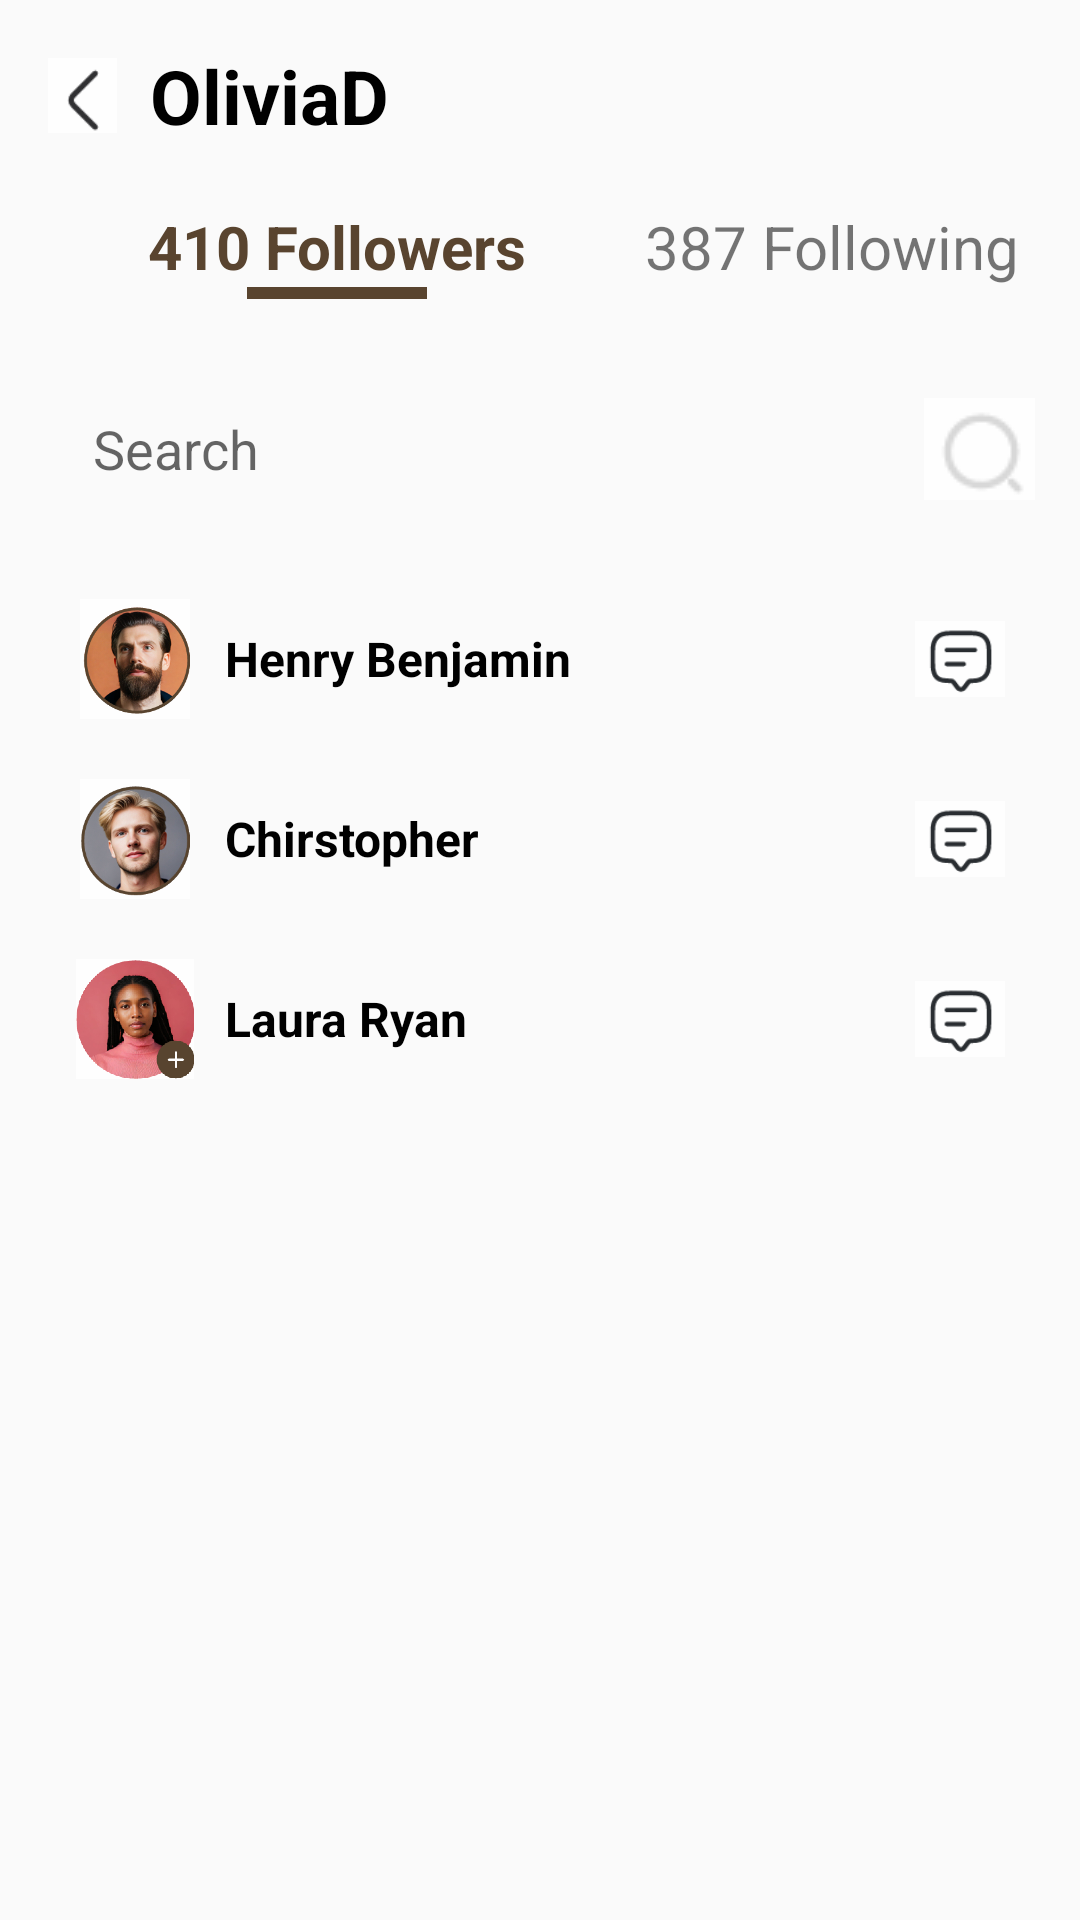

Where icons sit on this 1080px x 1920px app screen, as (x1, y1, x2, y2):
back: (68, 70, 99, 131)
chat: (930, 630, 992, 692), (930, 810, 992, 872), (930, 990, 992, 1052)
story: (84, 607, 190, 714), (81, 786, 190, 896), (76, 960, 194, 1079)
